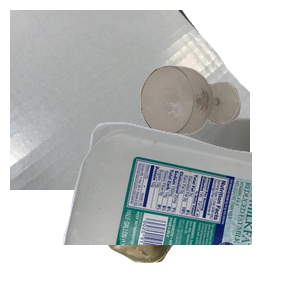cardboard: (10, 10, 250, 190)
glass: (138, 63, 300, 191)
plastic: (60, 120, 300, 300)
trash: (99, 155, 268, 300)
